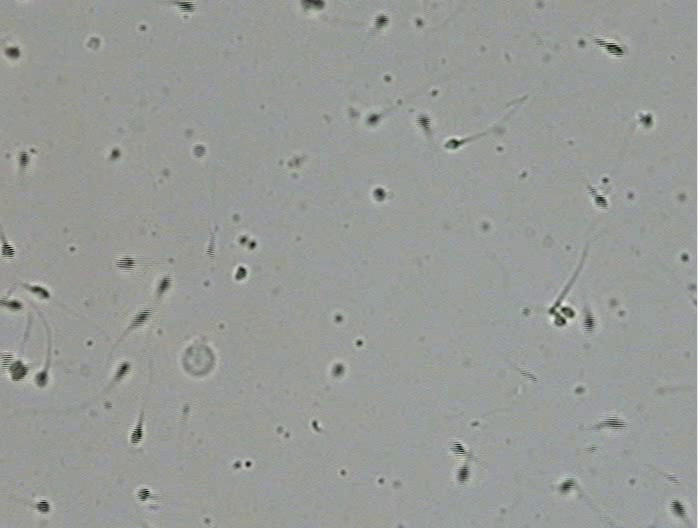Impurity: (182, 343, 215, 376), (87, 37, 100, 49)
S: (9, 360, 28, 381), (669, 498, 687, 518), (131, 309, 151, 326), (603, 416, 626, 430), (603, 42, 624, 56), (28, 286, 50, 299), (559, 478, 575, 494), (115, 362, 130, 379), (157, 276, 171, 294), (300, 1, 325, 11), (116, 257, 135, 270), (130, 425, 143, 444), (583, 313, 595, 333), (1, 242, 15, 259), (456, 465, 469, 483), (34, 371, 49, 386), (373, 15, 390, 28), (451, 442, 466, 456), (640, 112, 654, 127), (177, 1, 196, 12), (595, 193, 608, 209), (5, 300, 23, 311), (192, 144, 206, 158), (416, 115, 430, 129), (1, 353, 14, 368), (4, 47, 20, 59), (19, 151, 30, 168), (36, 500, 50, 513), (444, 139, 462, 149), (236, 265, 247, 281), (137, 488, 150, 501), (561, 306, 575, 318), (373, 188, 385, 201), (366, 113, 379, 125), (554, 313, 566, 326), (332, 364, 344, 376), (111, 148, 120, 159)
